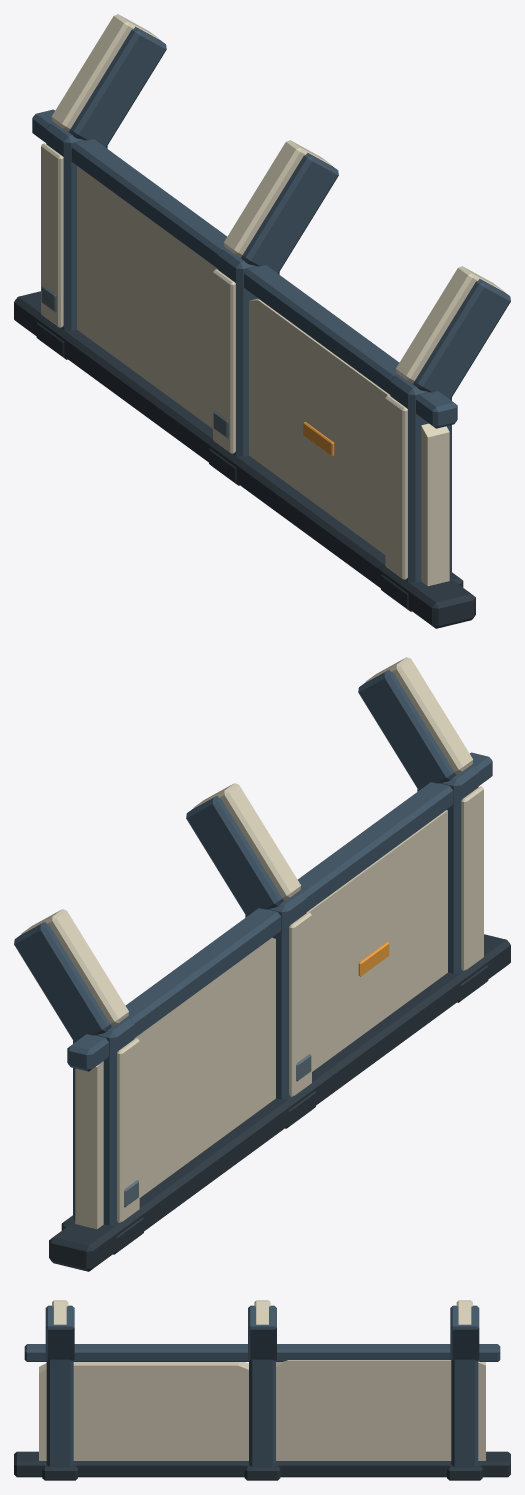
File: survey-left-wall.glb
3 renders of one model, top to bottom at view 1: azimuth 30°, elevation 25°; view 2: azimuth 150°, elevation 25°; view 3: azimuth 270°, elevation 25°, orthographic. The views are drawn at different scales.
Parts seen in each view (by area): view 1: survey-left-wall; view 2: survey-left-wall; view 3: survey-left-wall.
Part boxes in pixels (x1,y1,x2,y2): survey-left-wall: [14, 14, 510, 628]; survey-left-wall: [14, 657, 510, 1271]; survey-left-wall: [14, 1300, 510, 1480].
Size of the model in its own units: 1.04 by 2.88 by 7.
1 material, 1 textured.
